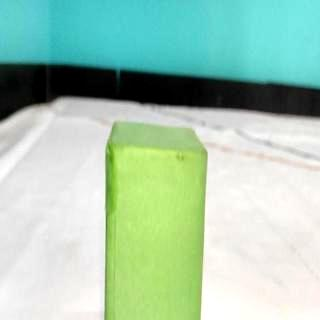greenbox: (104, 117, 208, 320)
